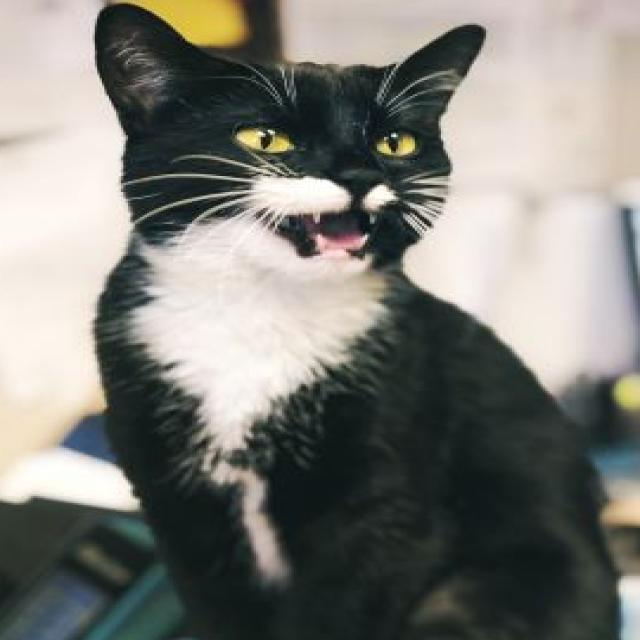Tuxedo: (83, 0, 638, 640)
